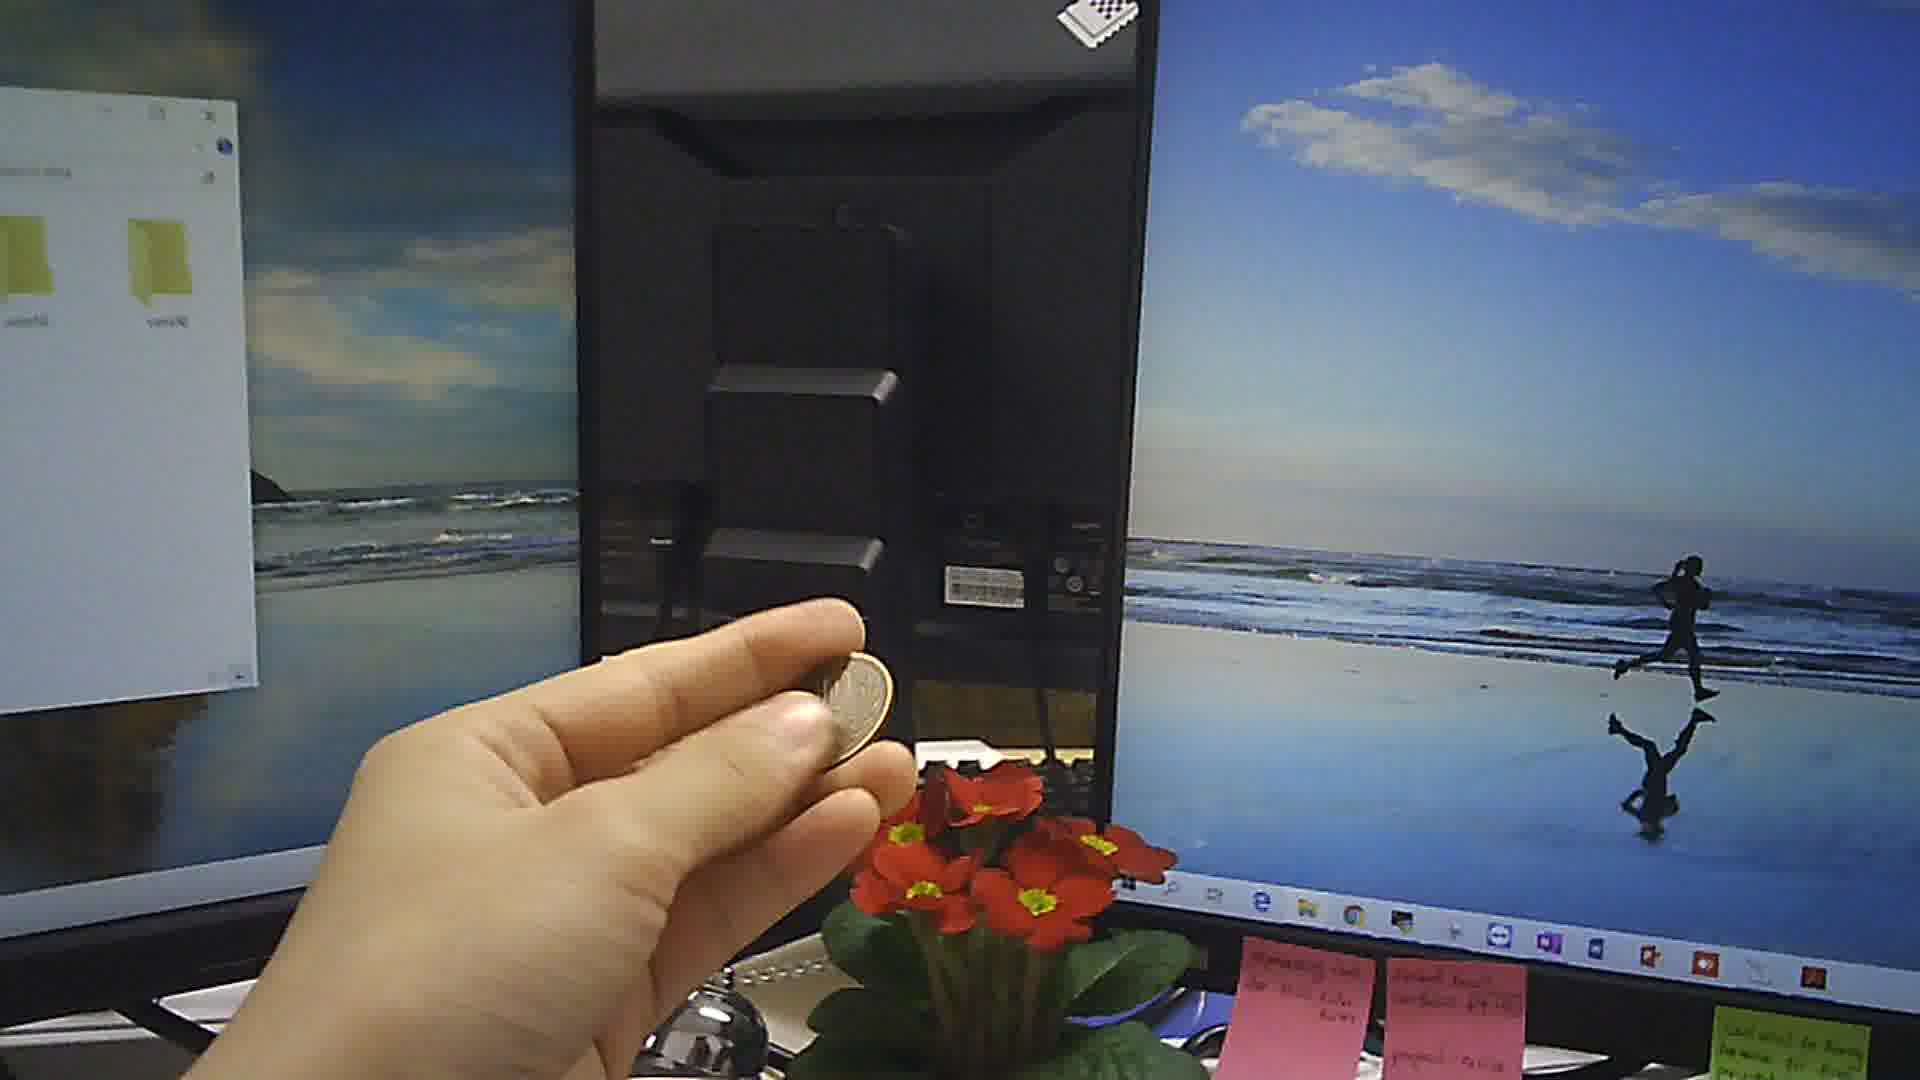10 Yen: (767, 633, 899, 771)
